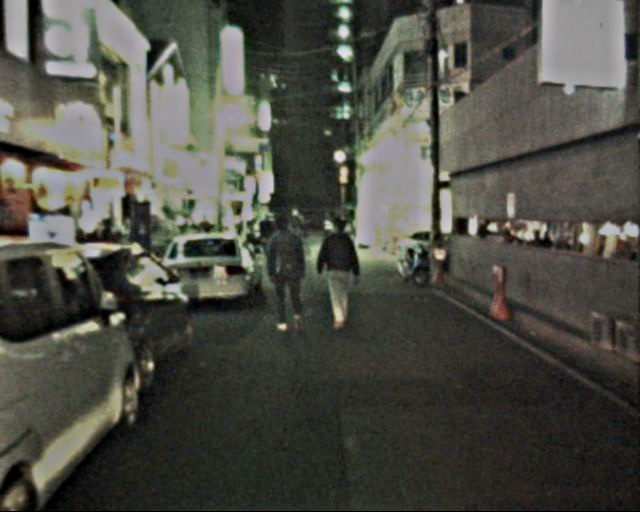person: (261, 216, 310, 333), (317, 216, 363, 329)
